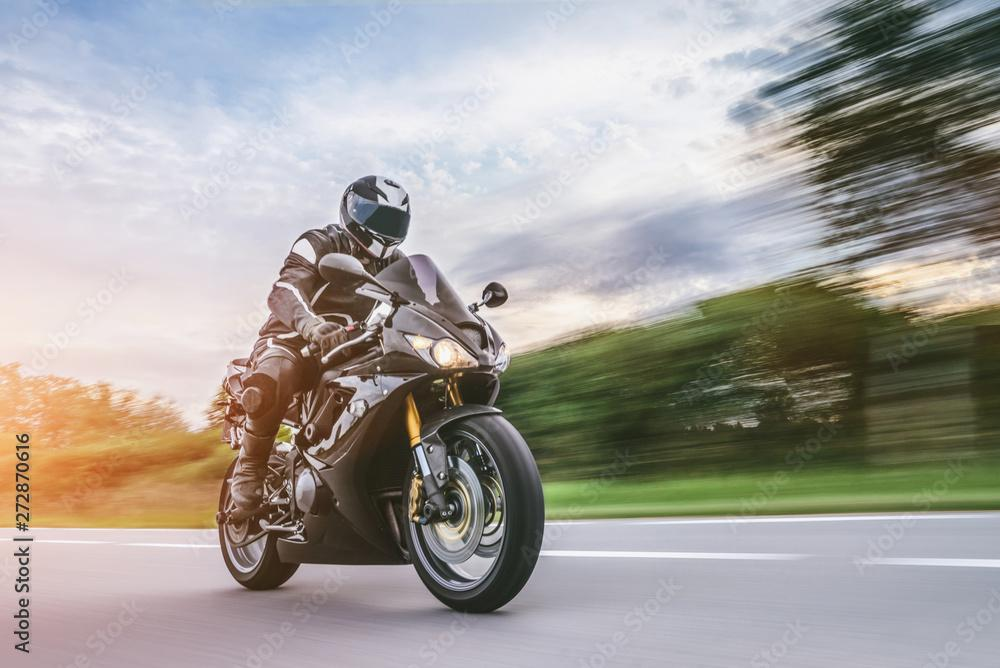helmet: (338, 174, 412, 262)
